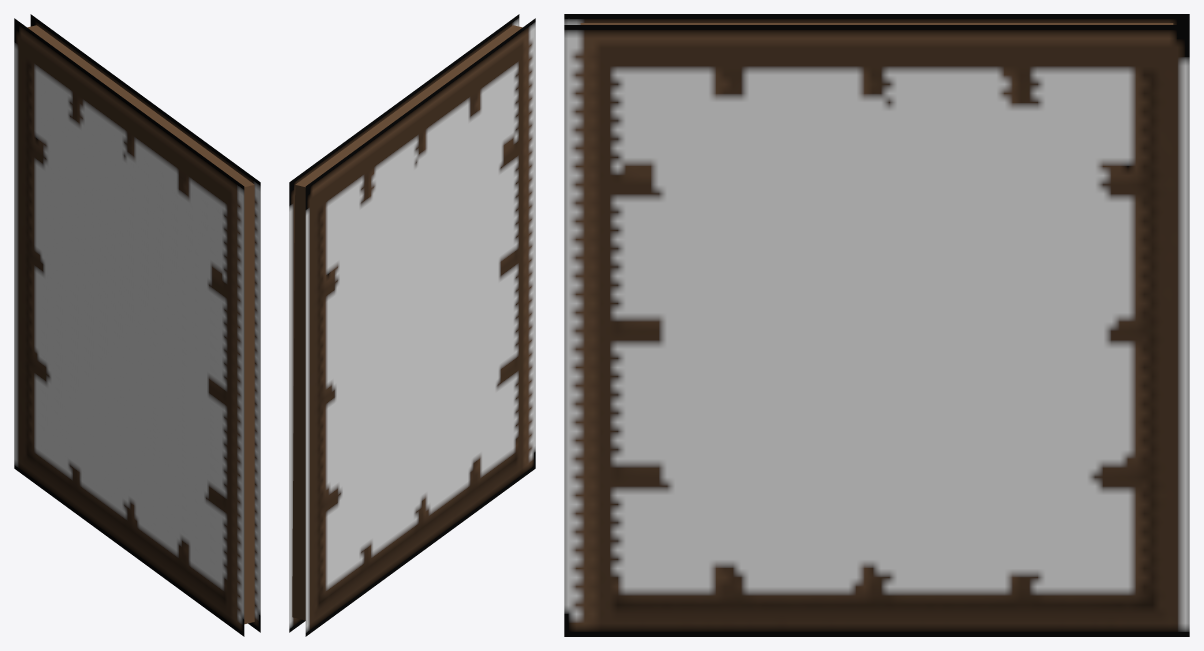
Rendered from pz_native_fixtures_windows_wood_114_frame.obj.
3 renders of one model, left to right at view 1: azimuth 30°, elevation 25°; view 2: azimuth 150°, elevation 25°; view 3: azimuth 270°, elevation 25°, orthographic. The views are drawn at different scales.
Parts seen in each view (by area): view 1: pz_native_fixtures_windows_wood_114_frame; view 2: pz_native_fixtures_windows_wood_114_frame; view 3: pz_native_fixtures_windows_wood_114_frame.
Part boxes in pixels (x1,y1,x2,y2): pz_native_fixtures_windows_wood_114_frame: (14,14,260,636); pz_native_fixtures_windows_wood_114_frame: (289,14,535,636); pz_native_fixtures_windows_wood_114_frame: (564,14,1189,636).
Size of the model in its own units: 0.04 by 1.05 by 0.9696.
Materials: 1 (1 with a texture image).
